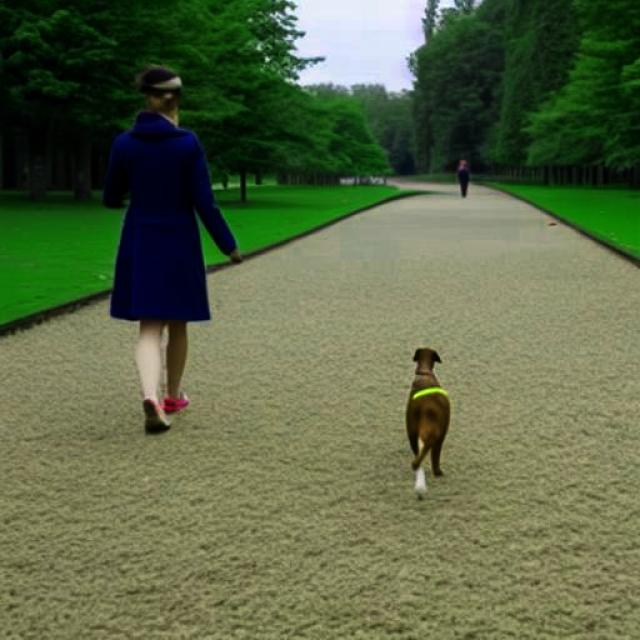Unleashed_Dog: (128, 224, 451, 501)
